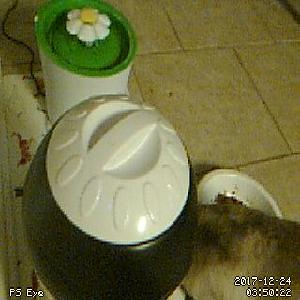cat: (178, 202, 300, 300)
fountain: (33, 1, 137, 80)
